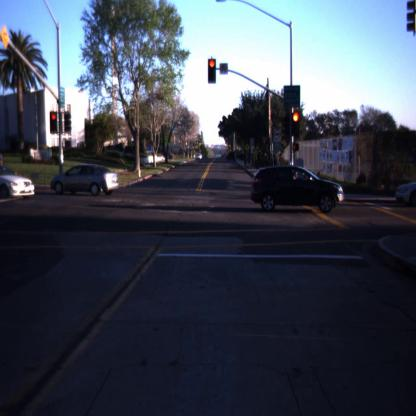trafficlight: (206, 58, 218, 84), (49, 109, 58, 138), (291, 110, 299, 140)
